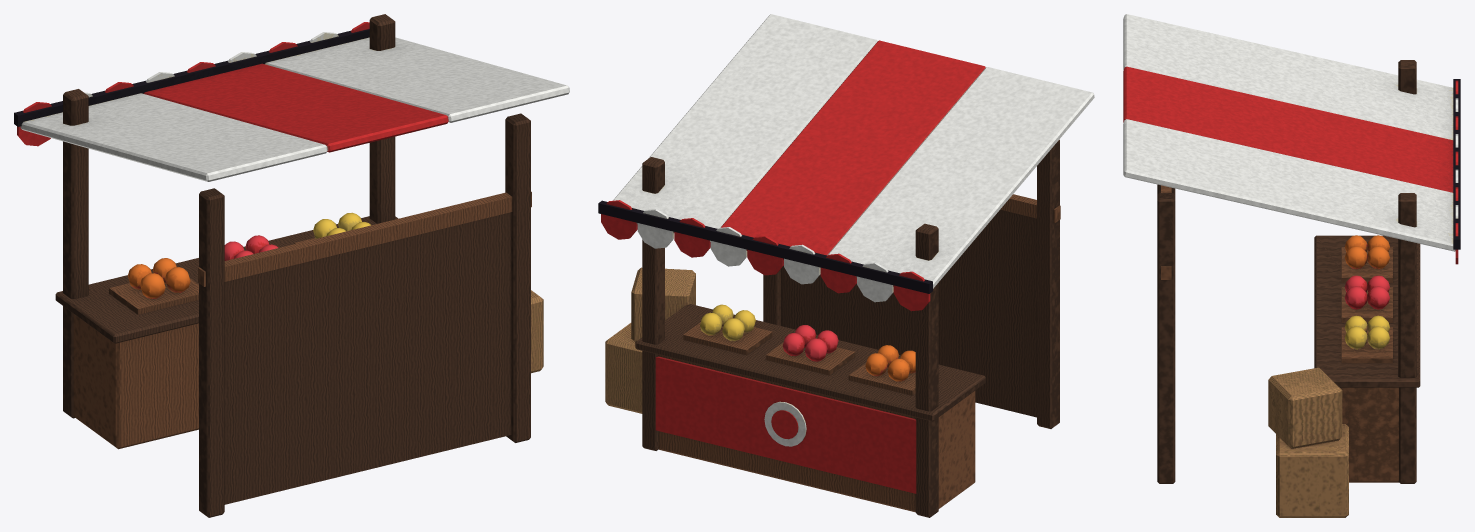
Rendered from festival_stall_red.fbx.
The picture shows the model from 3 angles, left to right: view 1: azimuth 30°, elevation 25°; view 2: azimuth 150°, elevation 25°; view 3: azimuth 270°, elevation 25°; orthographic projection. The views are drawn at different scales.
Visible parts, largest first — view 1: festival_stall_red; view 2: festival_stall_red; view 3: festival_stall_red.
Part boxes in pixels (left/top/right/bottom): festival_stall_red: left=14, top=14, right=569, bottom=517; festival_stall_red: left=598, top=14, right=1094, bottom=517; festival_stall_red: left=1123, top=14, right=1460, bottom=517.
Size of the model in its own units: 1200 by 973 by 922.
Materials: 1 (1 with a texture image).
